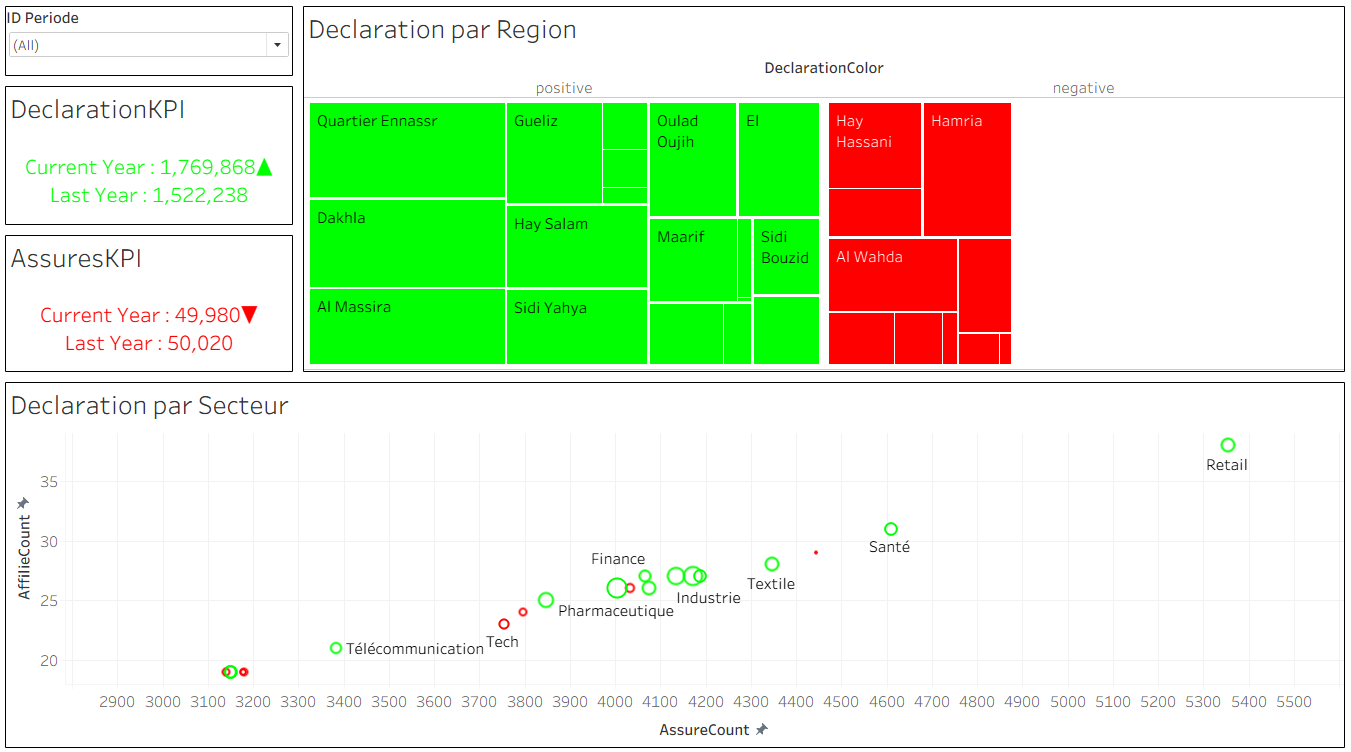

The page's visual inventory and layout, read from the dashboard file:
{"tool":"tableau","page":{"name":"Global","canvas":[1366,768],"ordinal":1},"visuals":[{"type":"filter","title":"PeriodFilter","param":"[federated.07vzspn135tqi41ceq79z0gg73o8].[none:IDPeriode:ok]","box":[8,8,298,80]},{"type":"worksheet","title":"Declaration par Region","mark":"Automatic","cols":["Calculation_1095500646450380800"],"box":[306,8,1052,376]},{"type":"worksheet","title":"DeclarationKPI","mark":"Automatic","box":[8,88,298,149]},{"type":"worksheet","title":"AssuresKPI","mark":"Automatic","box":[8,237,298,147]},{"type":"worksheet","title":"Declaration par Secteur","mark":"Automatic","rows":["DimAffilie.csv_82EE8C80ED4D4BA7A1CF6E02E7FDD3A4"],"cols":["DimAssure.csv_471FA27320F840FE9D4DF4E9BA069405"],"box":[8,384,1350,376]}]}

Visuals, with their boxes in screenshot pixels (x1, y1, x2, y2), scaled from the page's 1366x768 canvas onto the 1351x752 screenshot:
"PeriodFilter" filter: l=8, t=8, r=303, b=86
"Declaration par Region" worksheet: l=303, t=8, r=1343, b=376
"DeclarationKPI" worksheet: l=8, t=86, r=303, b=232
"AssuresKPI" worksheet: l=8, t=232, r=303, b=376
"Declaration par Secteur" worksheet: l=8, t=376, r=1343, b=744
